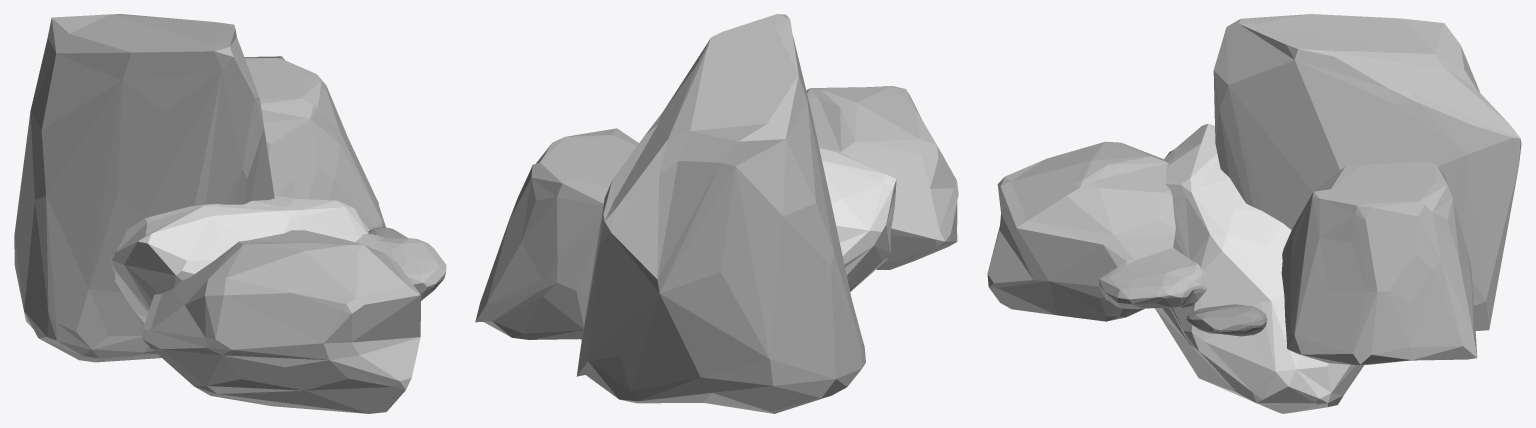
File: Rock_034.glb
3 renders of one model, left to right at view 1: azimuth 30°, elevation 25°; view 2: azimuth 150°, elevation 25°; view 3: azimuth 270°, elevation 25°, orthographic. The views are drawn at different scales.
Parts seen in each view (by area): view 1: Rock_034; view 2: Rock_034; view 3: Rock_034.
Part boxes in pixels (left/top/right/bottom): Rock_034: left=14, top=14, right=446, bottom=413; Rock_034: left=475, top=14, right=958, bottom=413; Rock_034: left=987, top=14, right=1521, bottom=413.
Bounding box in the file's own units: 2.85 × 2.65 × 4.01.
Materials: 1 (1 with a texture image).
